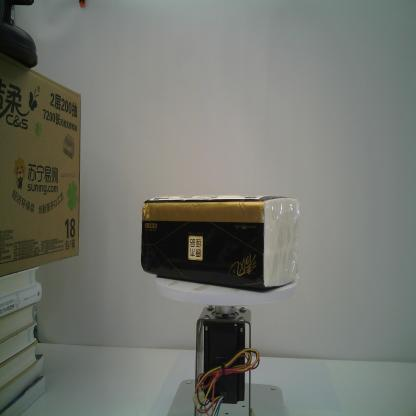Tissue: (140, 193, 302, 293)
